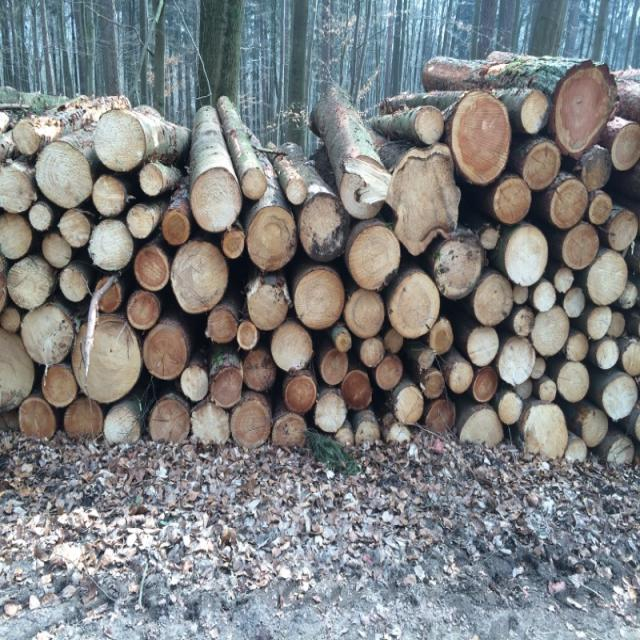wood-log: (389, 151, 461, 255), (72, 315, 143, 402), (553, 67, 615, 159), (451, 91, 511, 184), (174, 241, 230, 313), (36, 143, 94, 209), (346, 225, 401, 292), (389, 270, 443, 336), (189, 170, 244, 233), (248, 204, 298, 272), (21, 302, 75, 364), (91, 112, 146, 171), (296, 195, 345, 261), (294, 266, 346, 328), (438, 236, 487, 300), (0, 326, 35, 409), (503, 225, 548, 286), (524, 404, 572, 458), (142, 323, 188, 379), (7, 257, 54, 310), (89, 218, 135, 270), (586, 251, 628, 306), (230, 396, 273, 449), (246, 278, 288, 331), (270, 322, 312, 372), (498, 336, 540, 386), (474, 274, 515, 325), (529, 306, 570, 356), (345, 289, 385, 338), (151, 396, 191, 444), (551, 180, 589, 230), (461, 406, 504, 449), (524, 140, 562, 188), (66, 396, 105, 442), (562, 223, 600, 270), (18, 396, 56, 442), (0, 168, 36, 216), (494, 176, 531, 222), (601, 374, 637, 421), (134, 246, 170, 292), (243, 346, 279, 391), (102, 404, 140, 446), (43, 364, 79, 407), (0, 214, 32, 261), (92, 176, 127, 218), (209, 367, 244, 408), (466, 326, 501, 366), (611, 122, 640, 170), (520, 89, 550, 135), (316, 391, 348, 434), (272, 413, 308, 451), (557, 363, 590, 404), (127, 292, 161, 331), (606, 212, 638, 253), (58, 209, 91, 248), (340, 370, 371, 410), (286, 373, 317, 413), (394, 385, 426, 423), (42, 231, 74, 268), (179, 365, 210, 403), (414, 105, 444, 144), (206, 307, 236, 345), (162, 208, 192, 246), (60, 265, 90, 302), (582, 407, 610, 446), (320, 347, 348, 385), (425, 399, 456, 433), (583, 155, 611, 192), (126, 203, 156, 237), (473, 367, 500, 404), (375, 356, 403, 391), (430, 319, 456, 356), (138, 163, 167, 196), (240, 168, 268, 201), (586, 306, 613, 339), (589, 192, 614, 227), (448, 359, 474, 392), (499, 392, 524, 426), (222, 225, 246, 260), (594, 338, 619, 371), (358, 337, 384, 368), (27, 202, 53, 232), (531, 281, 555, 313), (565, 332, 589, 363), (562, 286, 586, 317), (98, 284, 122, 314), (237, 319, 260, 348), (421, 370, 444, 399), (623, 340, 640, 378), (382, 328, 404, 355), (0, 306, 22, 332), (554, 267, 575, 293), (481, 226, 500, 251), (537, 378, 556, 402), (335, 331, 351, 353)
